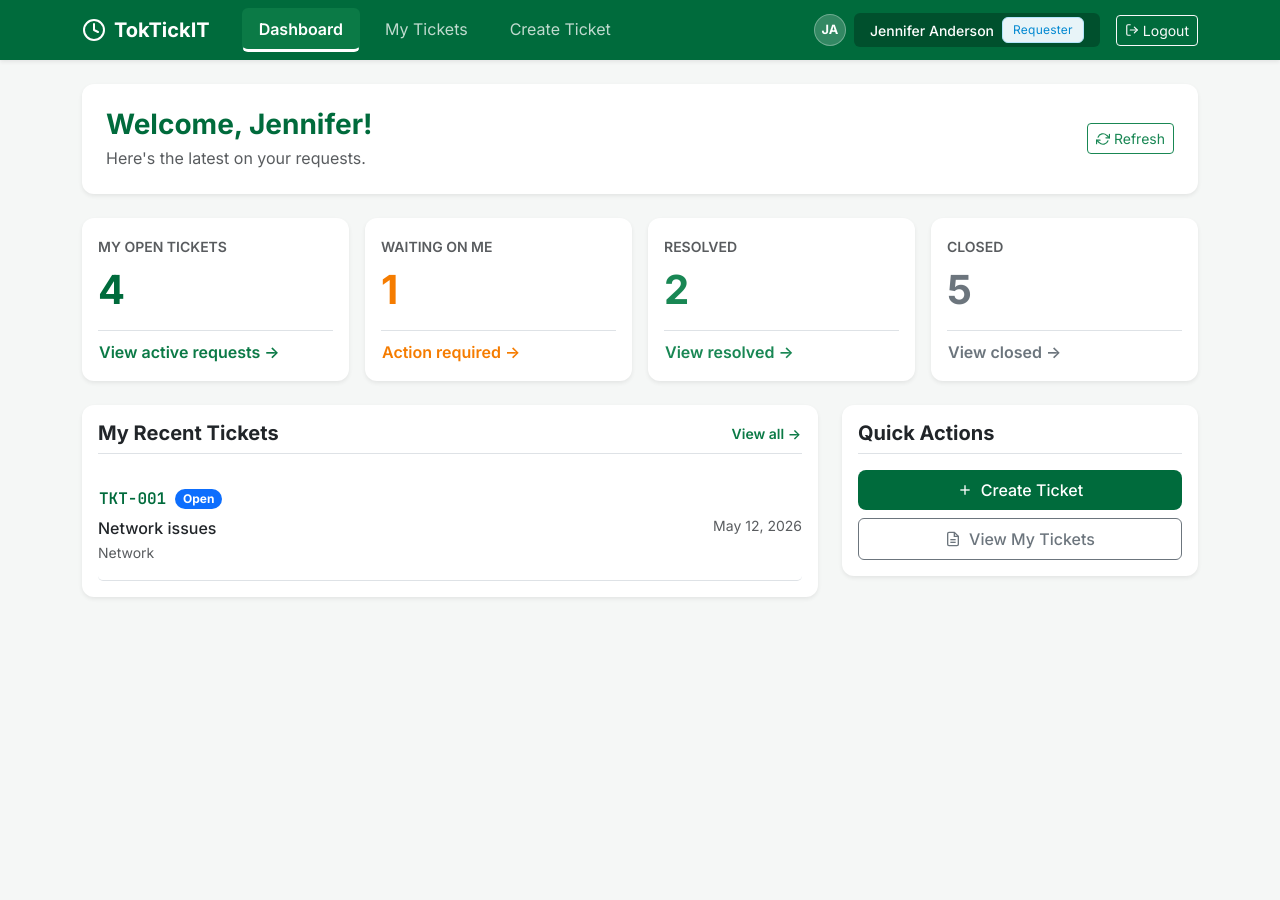
Test: Dashboard Routing & Filter Reset Integration Tests (Issue #4-5, AC-02, AC-10, AC-12) › 2. Requester drill-down applies filter and header tab click resets stale filter
Step 1. Click the button with test id "drilldown-total-open" → (189, 352), box [98,339,280,365]
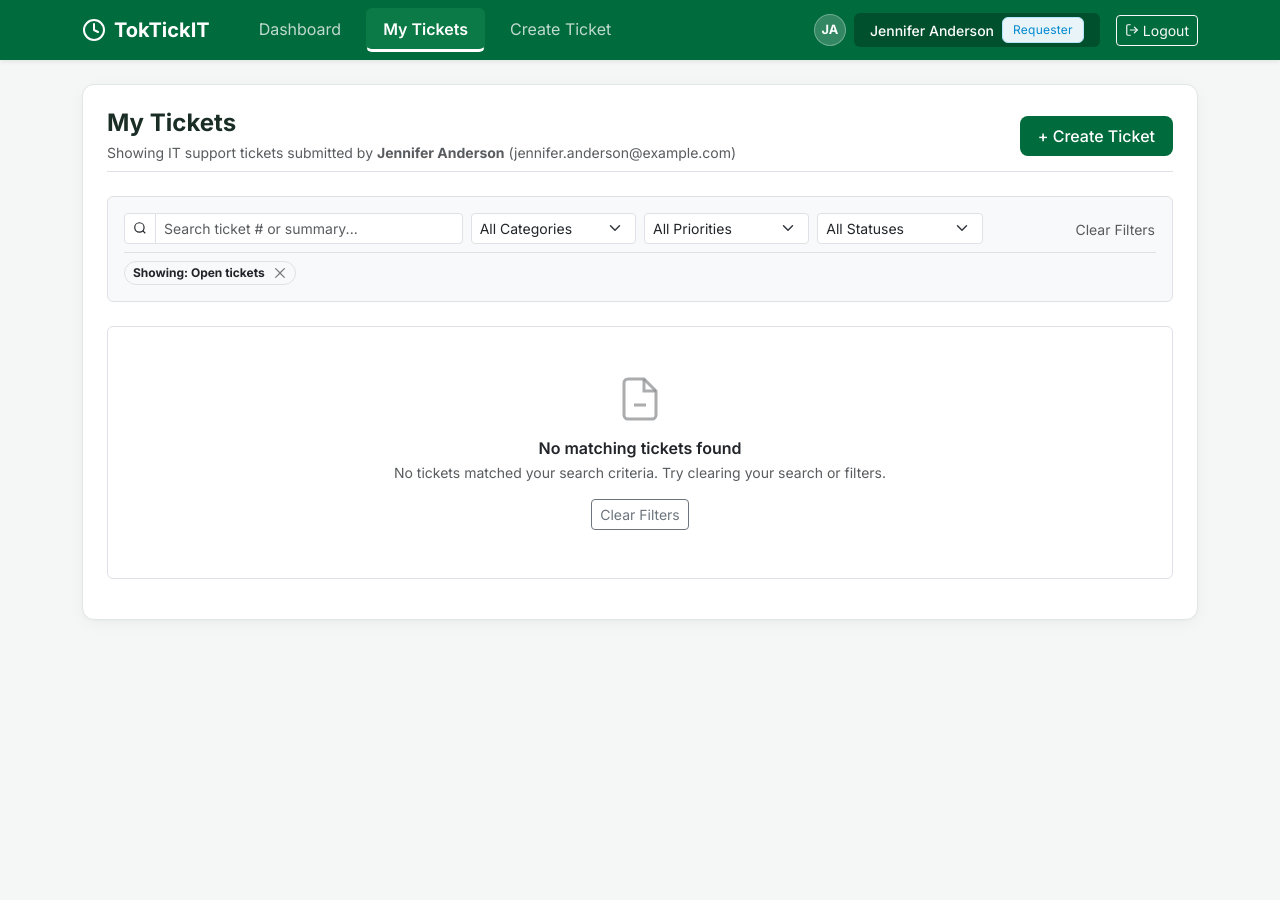
Expected: the heading "My Tickets" is shown, [107,108,236,137]
Result: the element with test id "status-group-active-filter" is shown at [124,252,1156,285]
Result: the text "Showing: Open tickets" is shown at [133,267,265,279]
Click "My Tickets" tab in Header
Step 2. Click the button with test id "nav-my-tickets-tab" → (426, 30), box [366,8,485,52]
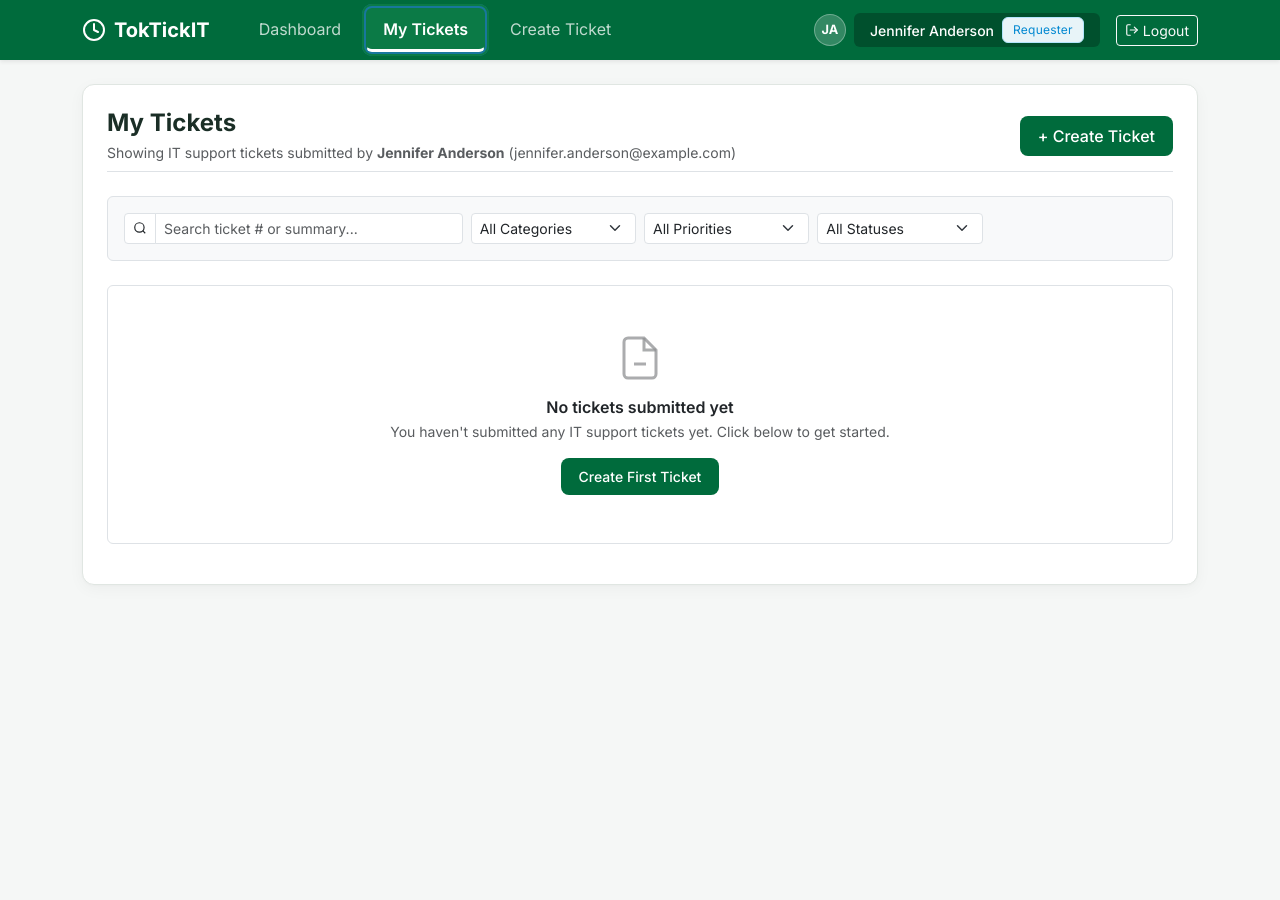
Result: the element with test id "status-group-active-filter" is gone
